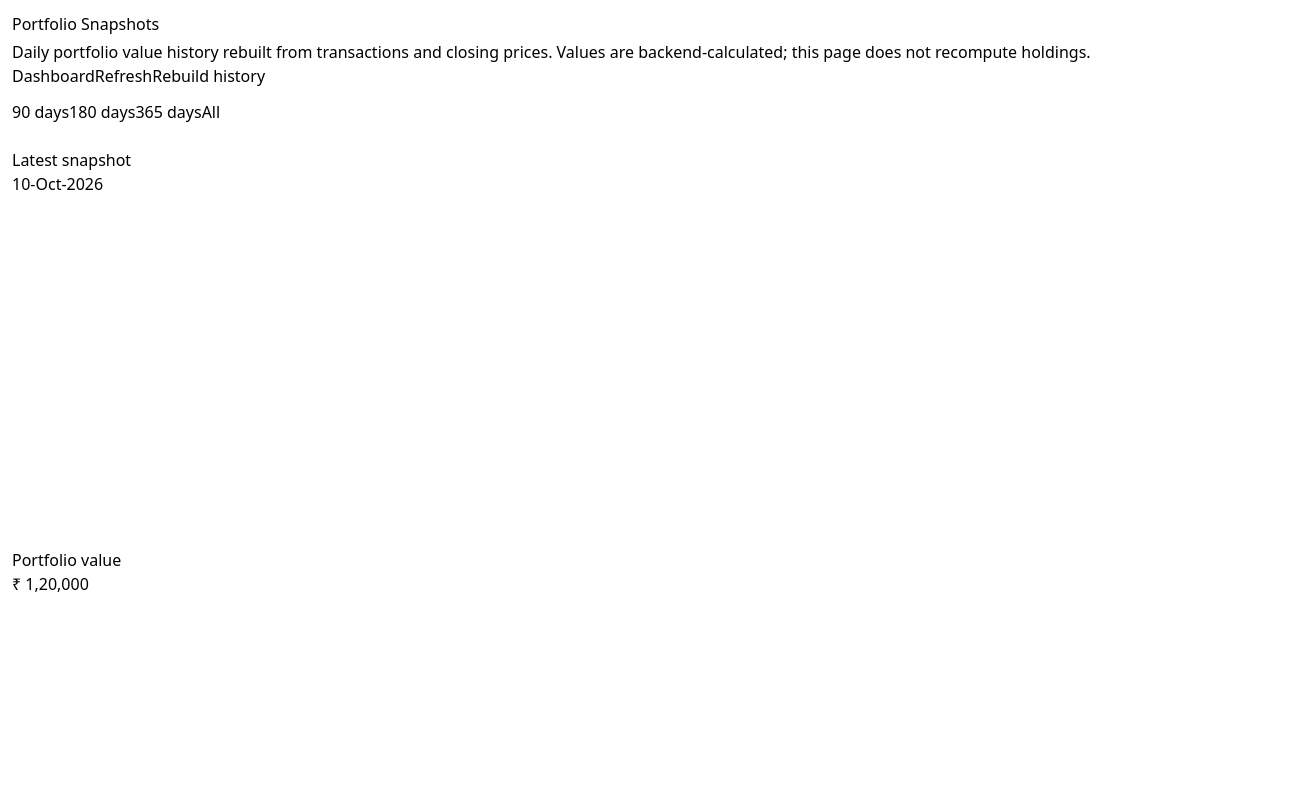
Test: shows same-key snapshot rows as stale through a failed refresh and replaces them after explicit retry
The image size is (1304, 800).
Click the button "Refresh": (124, 76) [95,64,152,88]
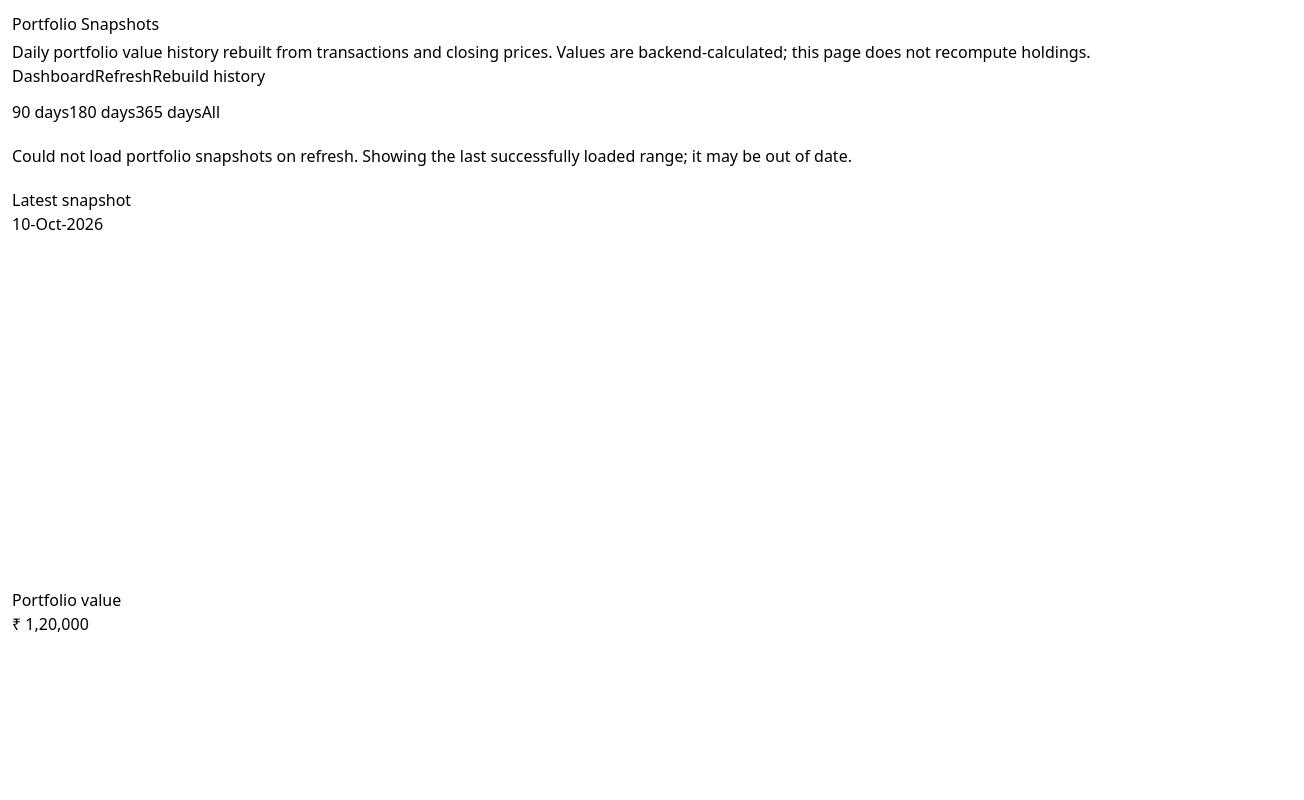
Expected: the message shows "Showing the last successfully loaded range", [12,145,852,167]
Click the button "Refresh": (124, 76) [95,64,152,88]
(page scrolled)
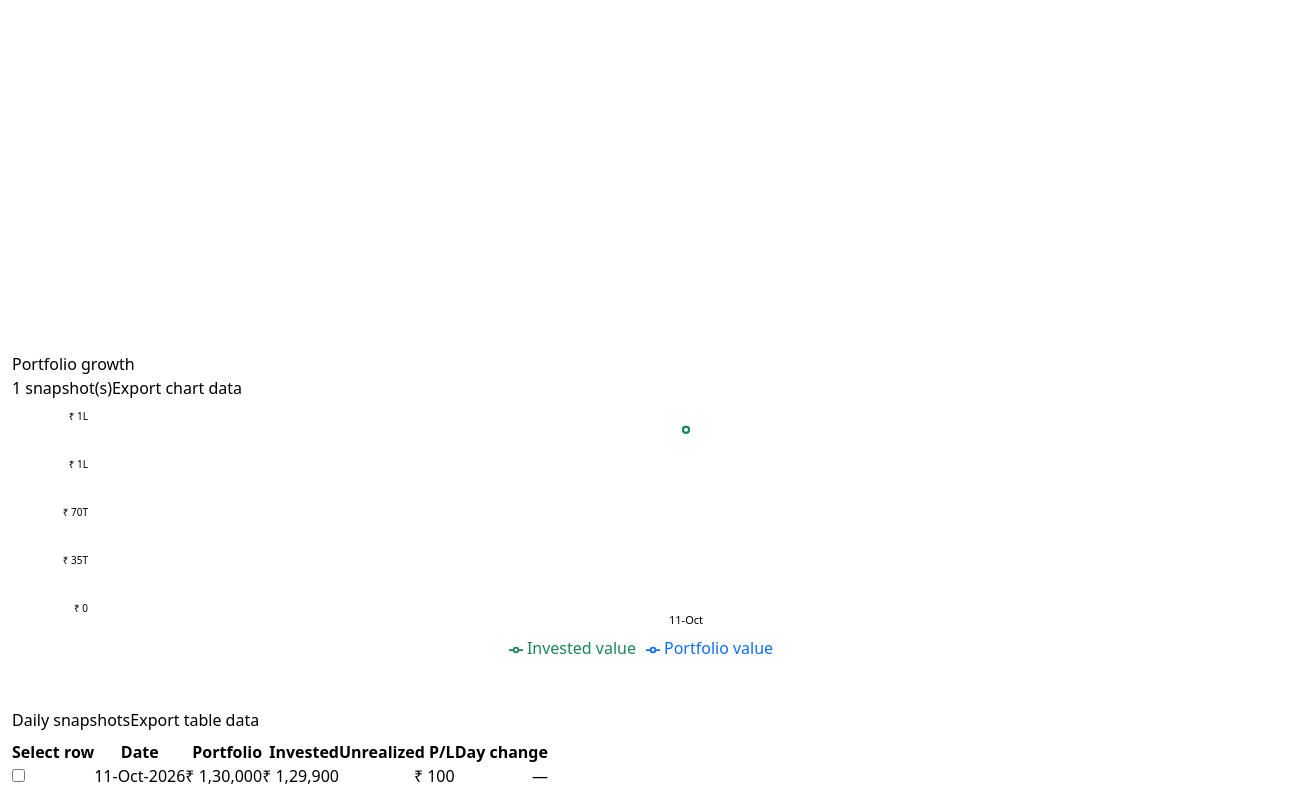
Expected: the checkbox named "Select snapshot 2026-10-11" is shown, [12,769,25,782]
Expected: the message is gone
